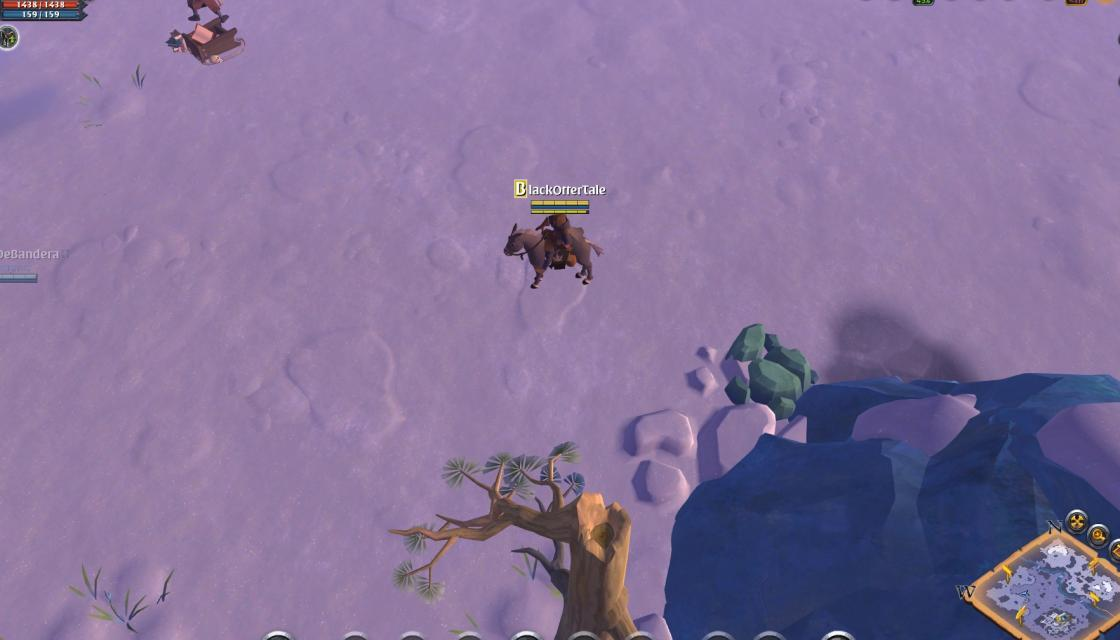sandstone: (724, 320, 819, 418)
